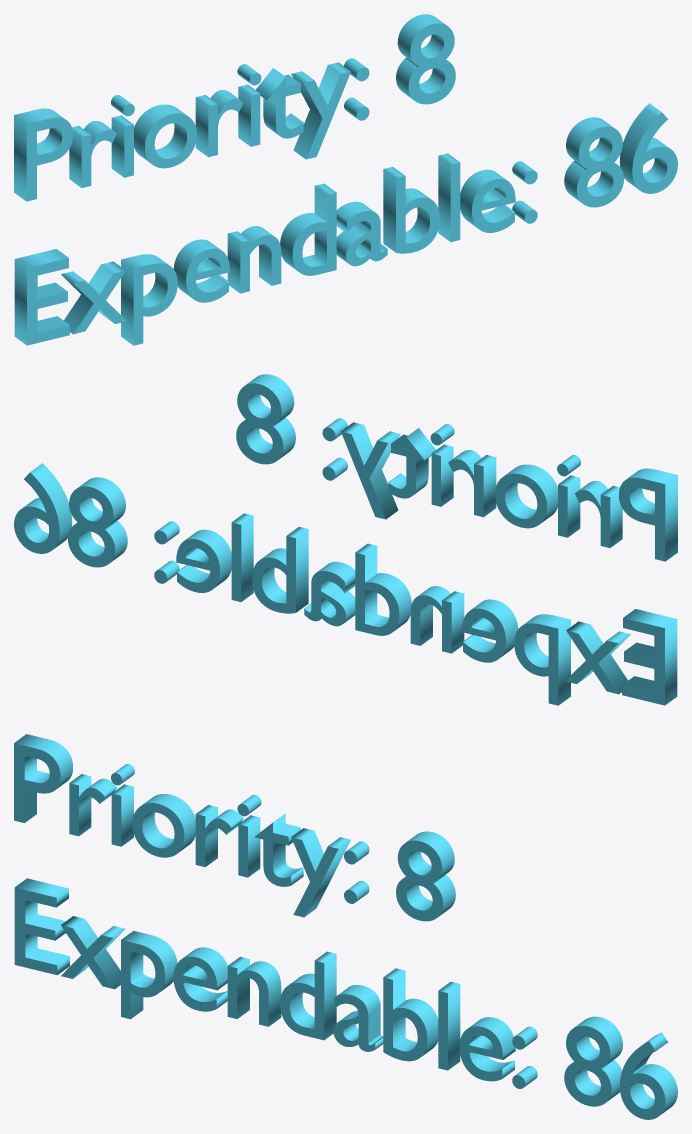
File: console_test_005_result.fbx
The picture shows the model from 3 angles, top to bottom: view 1: azimuth 30°, elevation 25°; view 2: azimuth 150°, elevation 25°; view 3: azimuth 330°, elevation 25°; orthographic projection.
Parts seen in each view (by area): view 1: Txt_Test_01.025, Txt_Test_01.026; view 2: Txt_Test_01.025, Txt_Test_01.026; view 3: Txt_Test_01.025, Txt_Test_01.026.
Part boxes in pixels (x1=…): Txt_Test_01.025: x1=14, y1=103, x2=677, y2=345; Txt_Test_01.026: x1=14, y1=14, x2=455, y2=201; Txt_Test_01.025: x1=14, y1=463, x2=677, y2=705; Txt_Test_01.026: x1=236, y1=374, x2=677, y2=561; Txt_Test_01.025: x1=14, y1=878, x2=677, y2=1119; Txt_Test_01.026: x1=14, y1=734, x2=455, y2=921.
Bounding box in the file's own units: 0.8101 × 0.2955 × 0.027.
